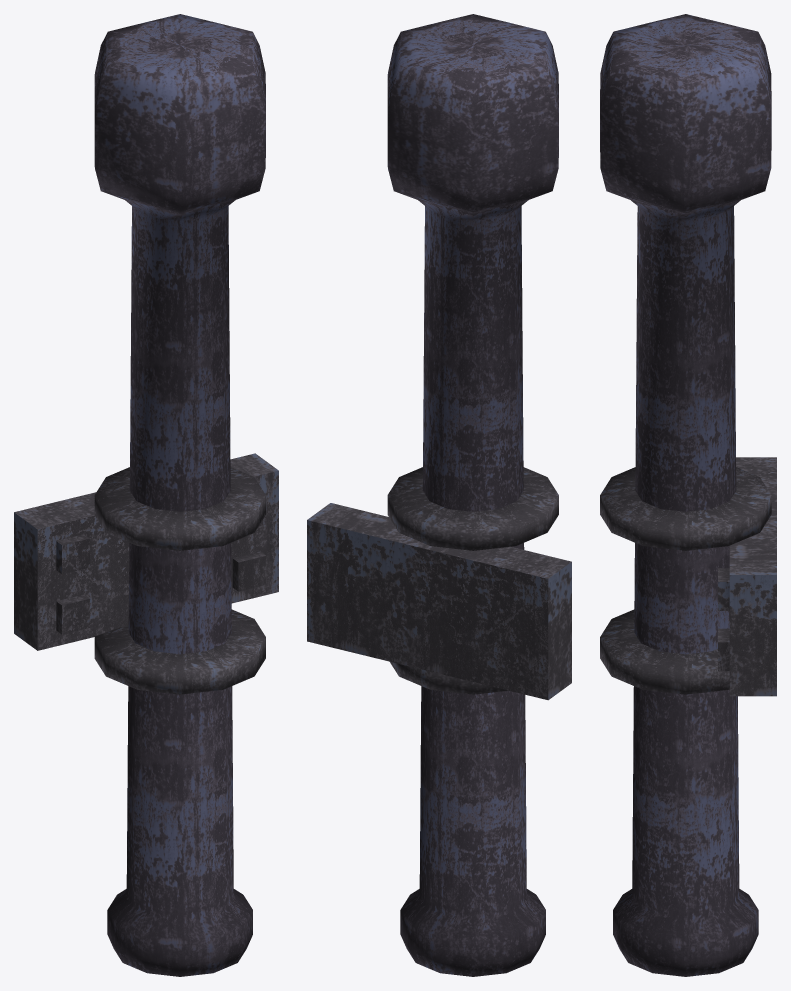
The model's file is mm6_deco_irontorch_unlit.glb.
3 renders of one model, left to right at view 1: azimuth 30°, elevation 25°; view 2: azimuth 150°, elevation 25°; view 3: azimuth 270°, elevation 25°, orthographic.
Visible parts, largest first — view 1: IronTorchUnlit; view 2: IronTorchUnlit; view 3: IronTorchUnlit.
Boxes of the visible parts, x1=… form: IronTorchUnlit: x1=14, y1=14, x2=278, y2=976; IronTorchUnlit: x1=307, y1=14, x2=571, y2=976; IronTorchUnlit: x1=600, y1=14, x2=776, y2=976.
Bounding box in the file's own units: 0.3182 × 1.14 × 0.202.
2 materials, 2 textured.
